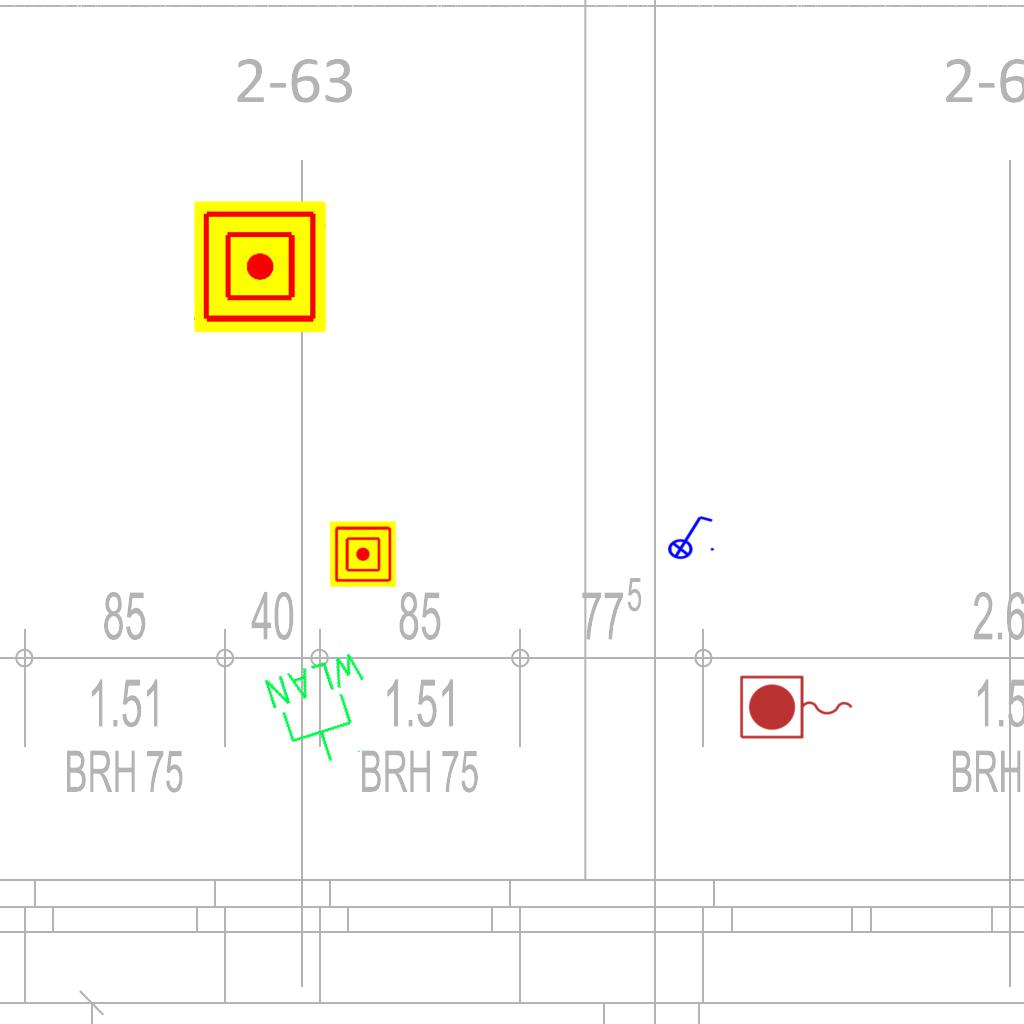Ausschalter_beleuchtet: (661, 512, 717, 560)
NAM-Nichtautomatischer_Melder: (194, 201, 326, 333), (330, 521, 396, 587)
WLAN: (259, 645, 391, 778)
Zugtaster: (736, 672, 858, 744)
